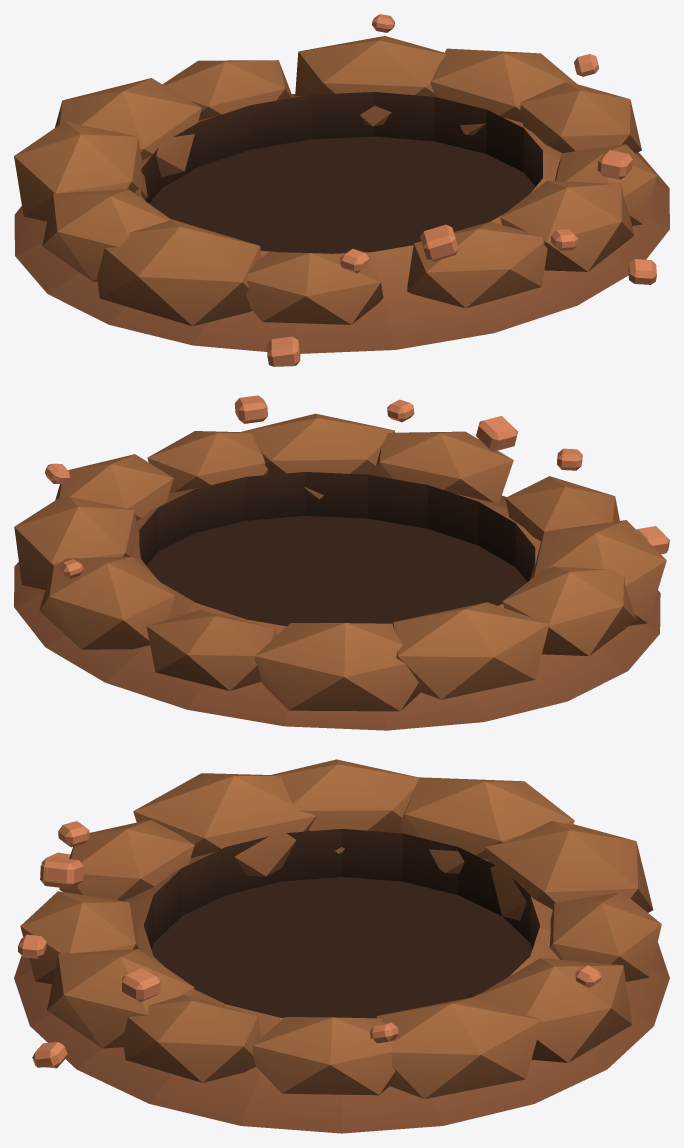
Rendered from hole.glb.
The picture shows the model from 3 angles, top to bottom: view 1: azimuth 30°, elevation 25°; view 2: azimuth 150°, elevation 25°; view 3: azimuth 270°, elevation 25°; orthographic projection. The views are drawn at different scales.
Visible parts, largest first — view 1: mound; view 2: mound; view 3: mound.
Boxes of the visible parts, x1=… form: mound: x1=14, y1=14, x2=669, y2=366; mound: x1=14, y1=395, x2=669, y2=730; mound: x1=14, y1=759, x2=669, y2=1133.
Size of the model in its own units: 2.6 by 0.4017 by 2.32.
Materials: 1 (1 with a texture image).
